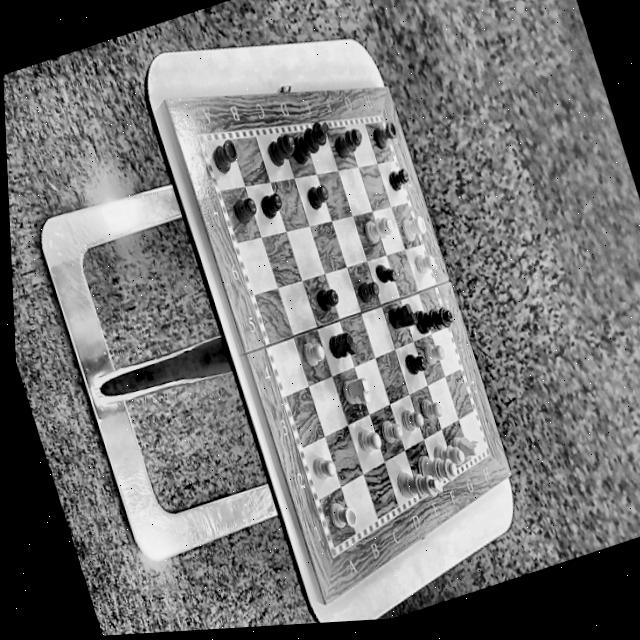chessboard: (205, 123, 485, 542)
